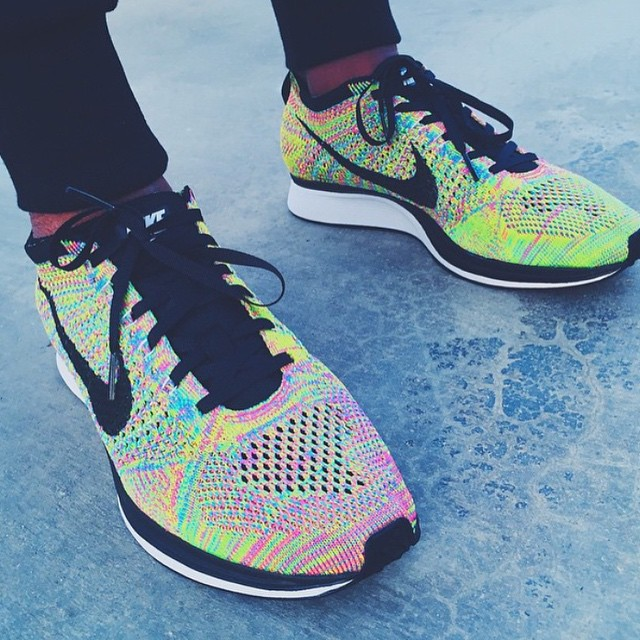sneaker: (1, 155, 455, 621), (255, 30, 640, 314)
